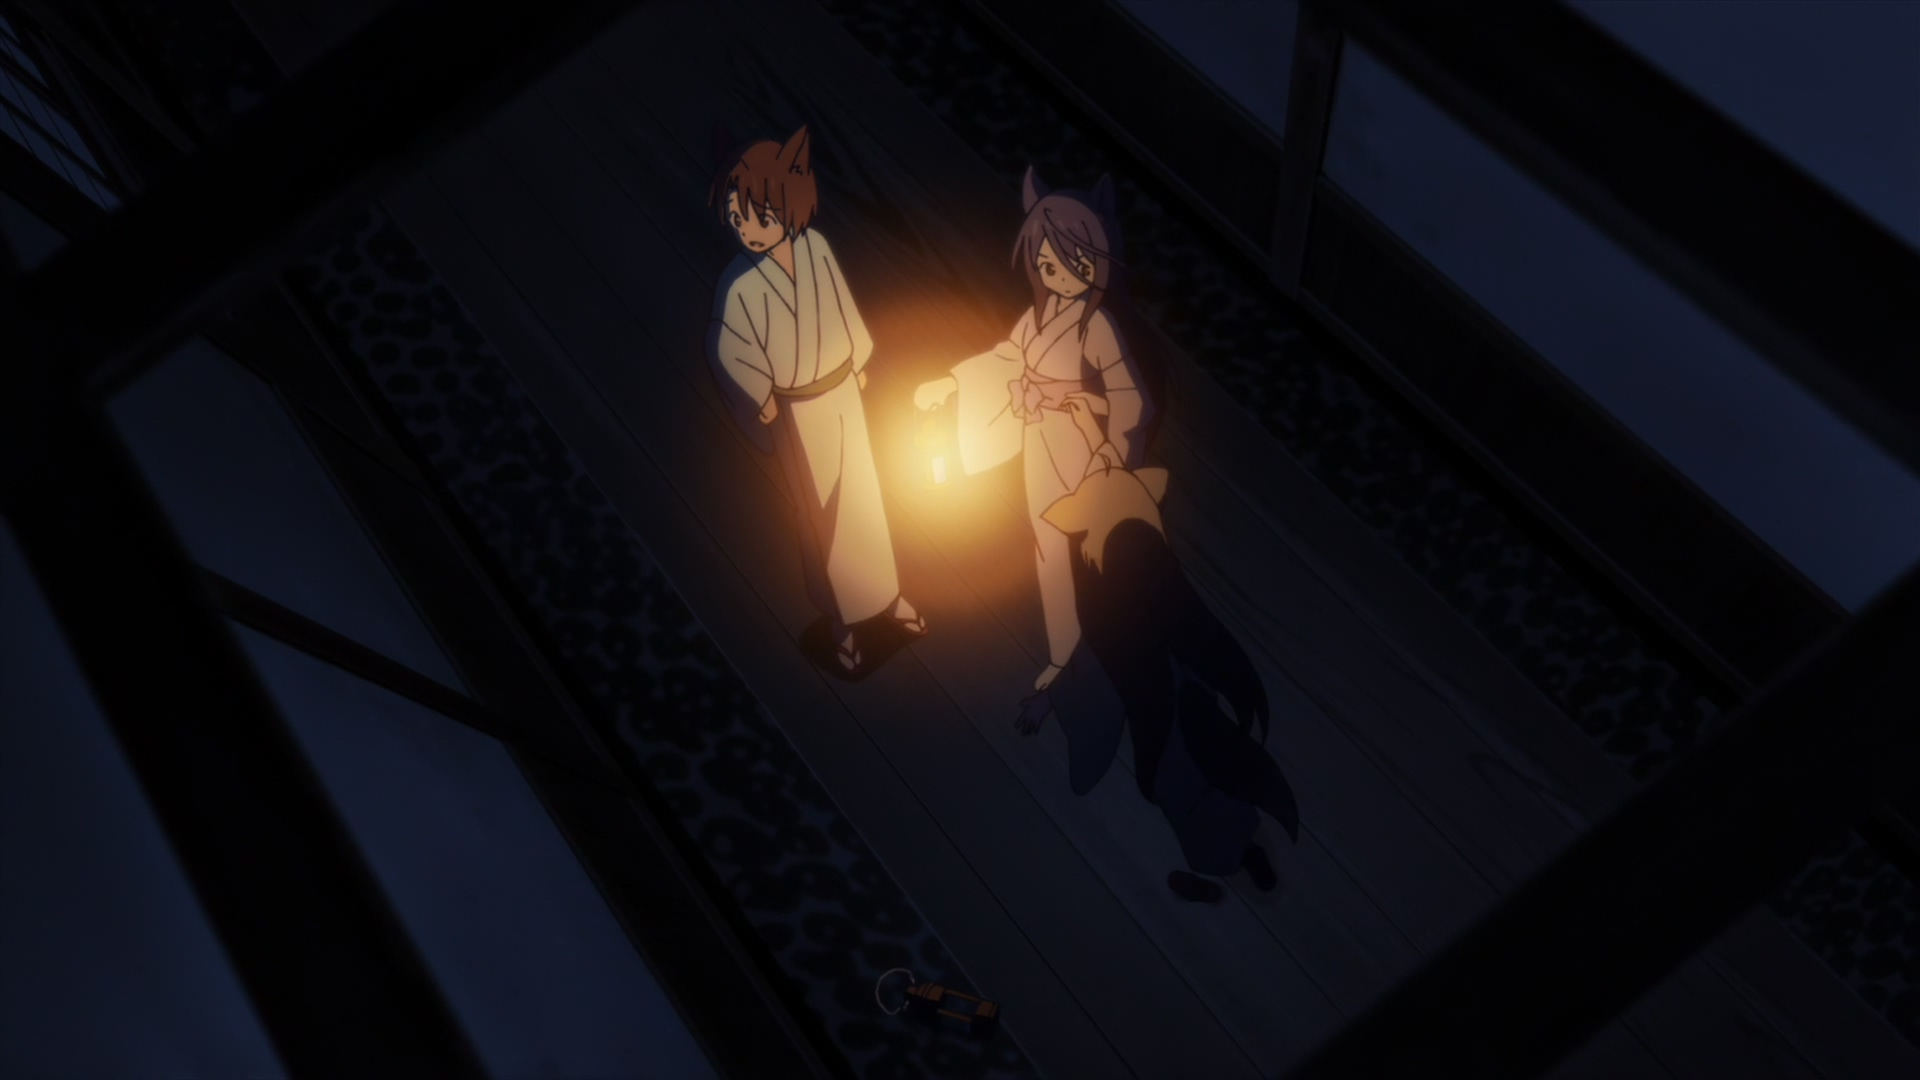枣: (717, 128, 931, 676)
柚: (1022, 454, 1302, 897)
皋: (913, 166, 1156, 684)
